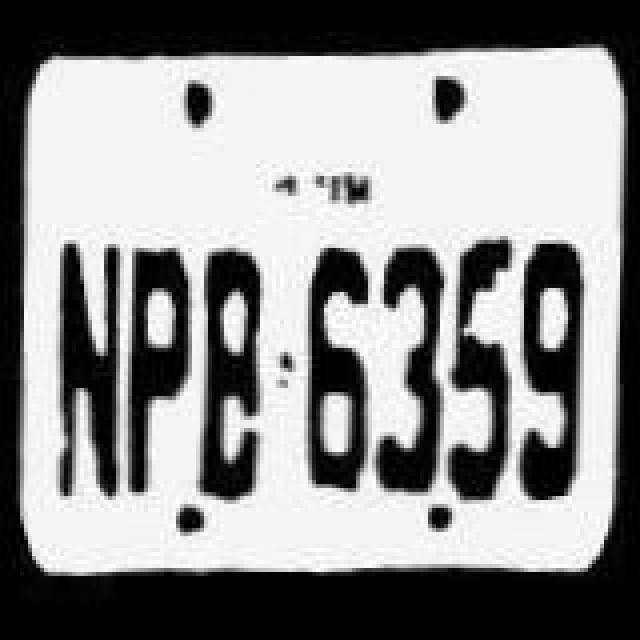3: (370, 242, 454, 498)
5: (444, 230, 524, 510)
6: (298, 232, 382, 504)
9: (516, 222, 596, 506)
B: (196, 238, 284, 510)
N: (38, 238, 130, 506)
P: (116, 242, 196, 498)
